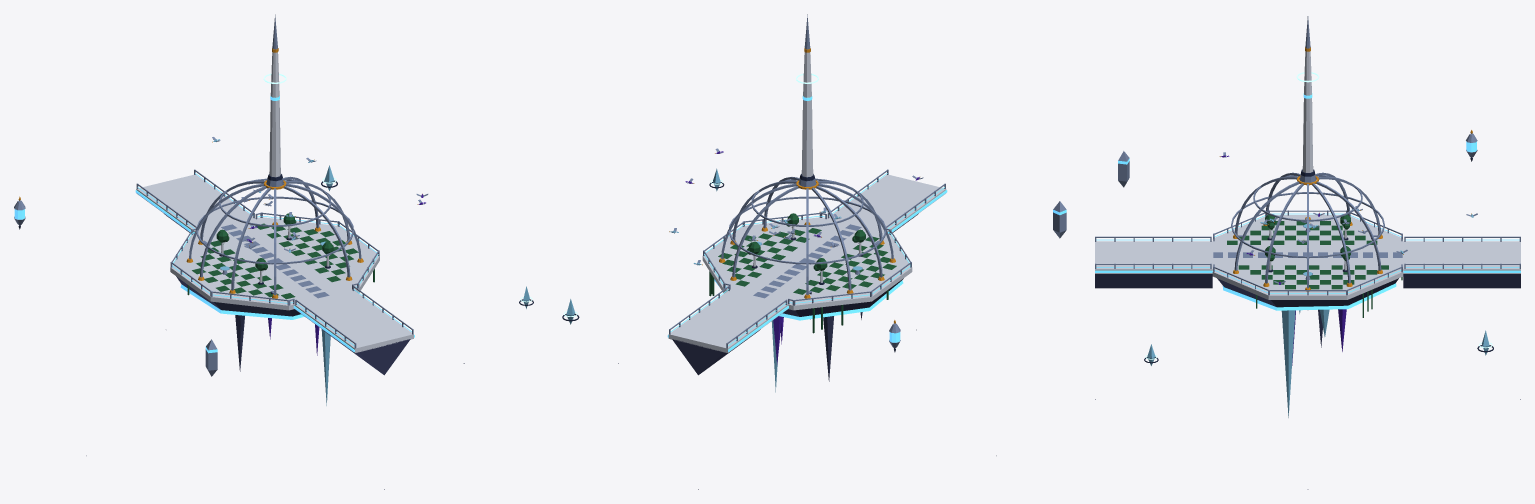
The model's file is chunk_path_aviary.fbx.
The picture shows the model from 3 angles, left to right: view 1: azimuth 30°, elevation 25°; view 2: azimuth 150°, elevation 25°; view 3: azimuth 270°, elevation 25°; orthographic projection. The views are drawn at different scales.
Visible parts, largest first — view 1: chunk_path_aviary; view 2: chunk_path_aviary; view 3: chunk_path_aviary.
Boxes of the visible parts, x1,y1,x2,y2 form: chunk_path_aviary: [14, 14, 533, 489]; chunk_path_aviary: [562, 14, 1066, 489]; chunk_path_aviary: [1095, 16, 1520, 489].
Bounding box in the file's own units: 256 × 256 × 256.
